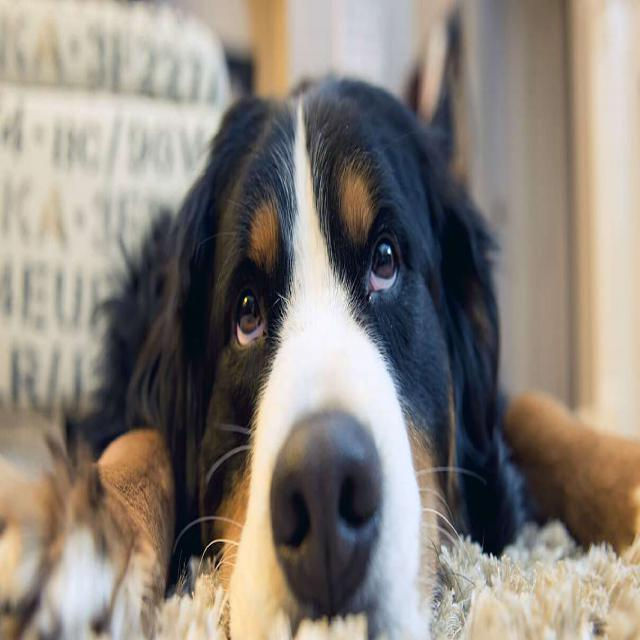eye: (364, 223, 403, 302), (233, 279, 269, 353)
